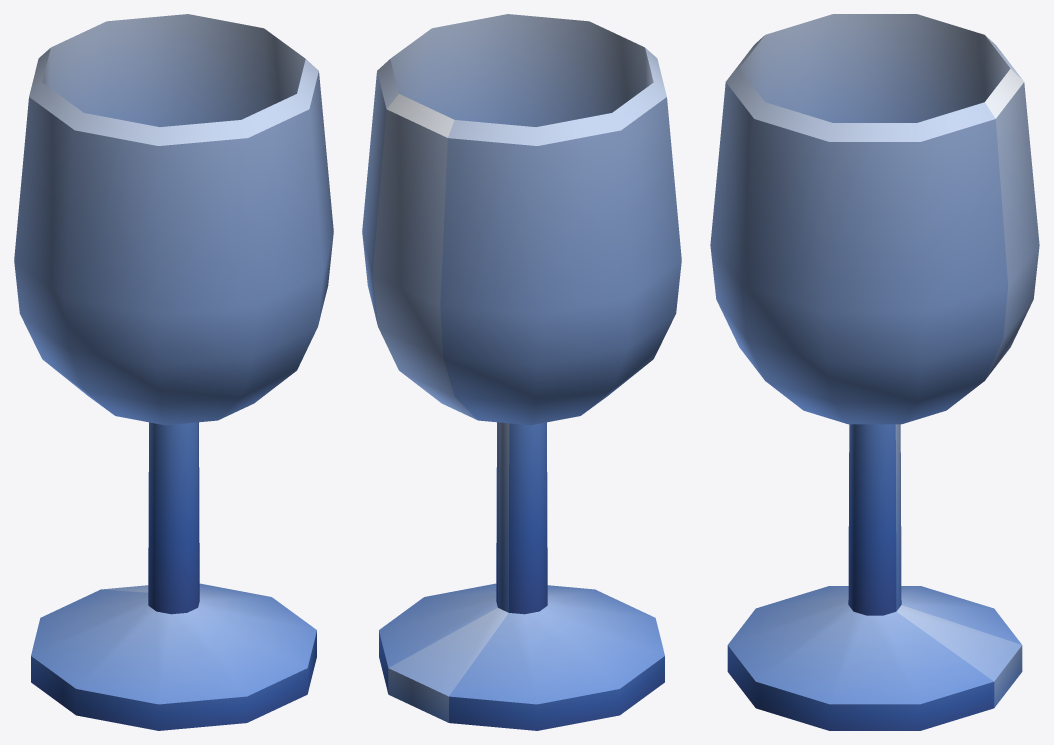
File: m_Glass02.fbx
The picture shows the model from 3 angles, left to right: view 1: azimuth 30°, elevation 25°; view 2: azimuth 150°, elevation 25°; view 3: azimuth 270°, elevation 25°; orthographic projection.
Visible parts, largest first — view 1: m_Glass02; view 2: m_Glass02; view 3: m_Glass02.
Boxes of the visible parts, <box> form: m_Glass02: <box>14,14,333,730</box>; m_Glass02: <box>362,14,681,730</box>; m_Glass02: <box>710,14,1039,730</box>.
Bounding box in the file's own units: 10.63 × 22.59 × 11.17.
